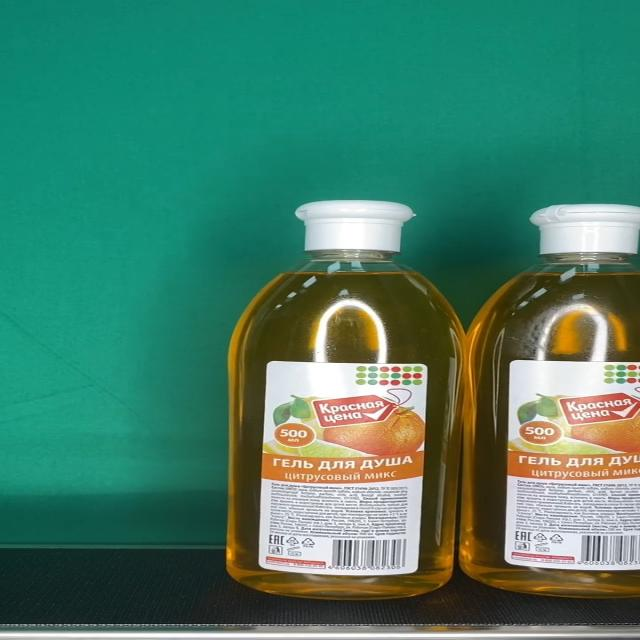Bottle: (226, 201, 462, 600)
Cap: (294, 201, 415, 252)
